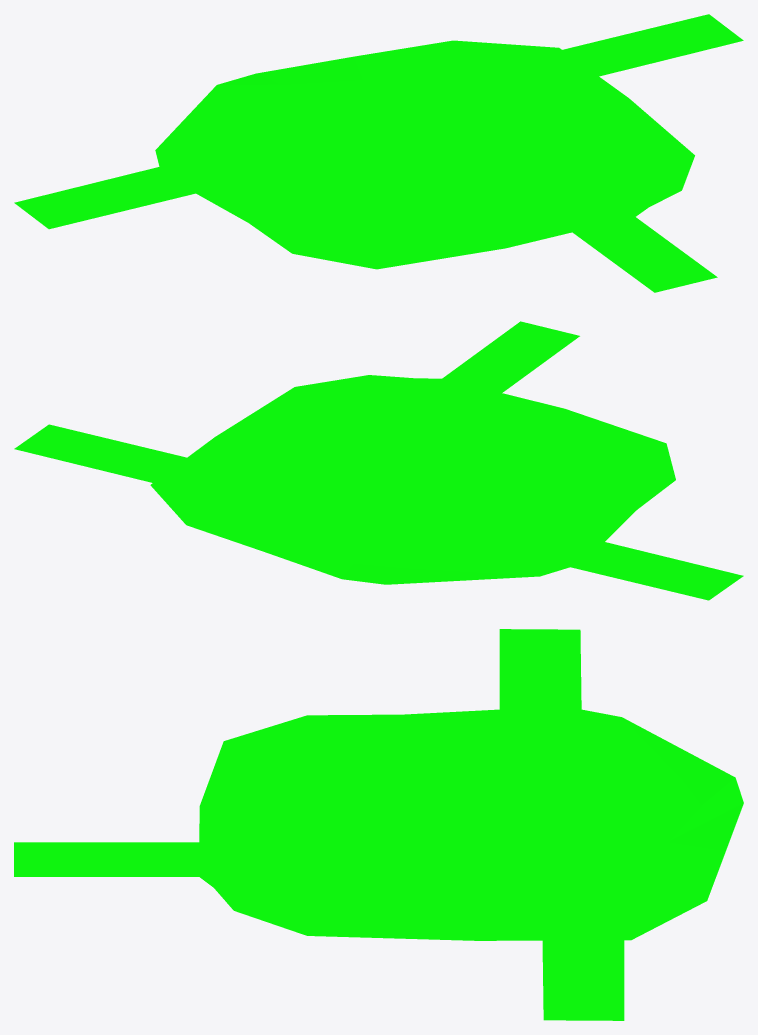
The model's file is s02a_td2-floor.glb.
The picture shows the model from 3 angles, top to bottom: view 1: azimuth 30°, elevation 25°; view 2: azimuth 150°, elevation 25°; view 3: azimuth 270°, elevation 25°; orthographic projection. The views are drawn at different scales.
Visible parts, largest first — view 1: collision_floor-colonly; view 2: collision_floor-colonly; view 3: collision_floor-colonly.
Part boxes in pixels (left/top/right/bottom): collision_floor-colonly: left=14, top=14, right=743, bottom=292; collision_floor-colonly: left=14, top=321, right=743, bottom=600; collision_floor-colonly: left=14, top=629, right=743, bottom=1020.
Bounding box in the file's own units: 67.89 × 0.168 × 53.45.
